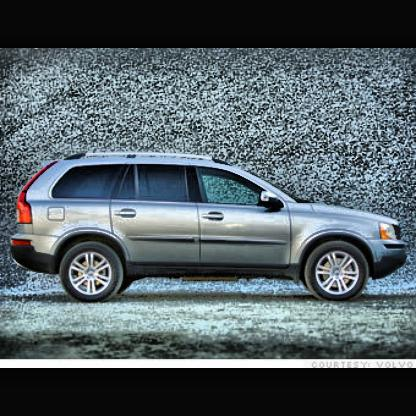Volvo XC90 SUV 2007: (12, 152, 410, 303)
